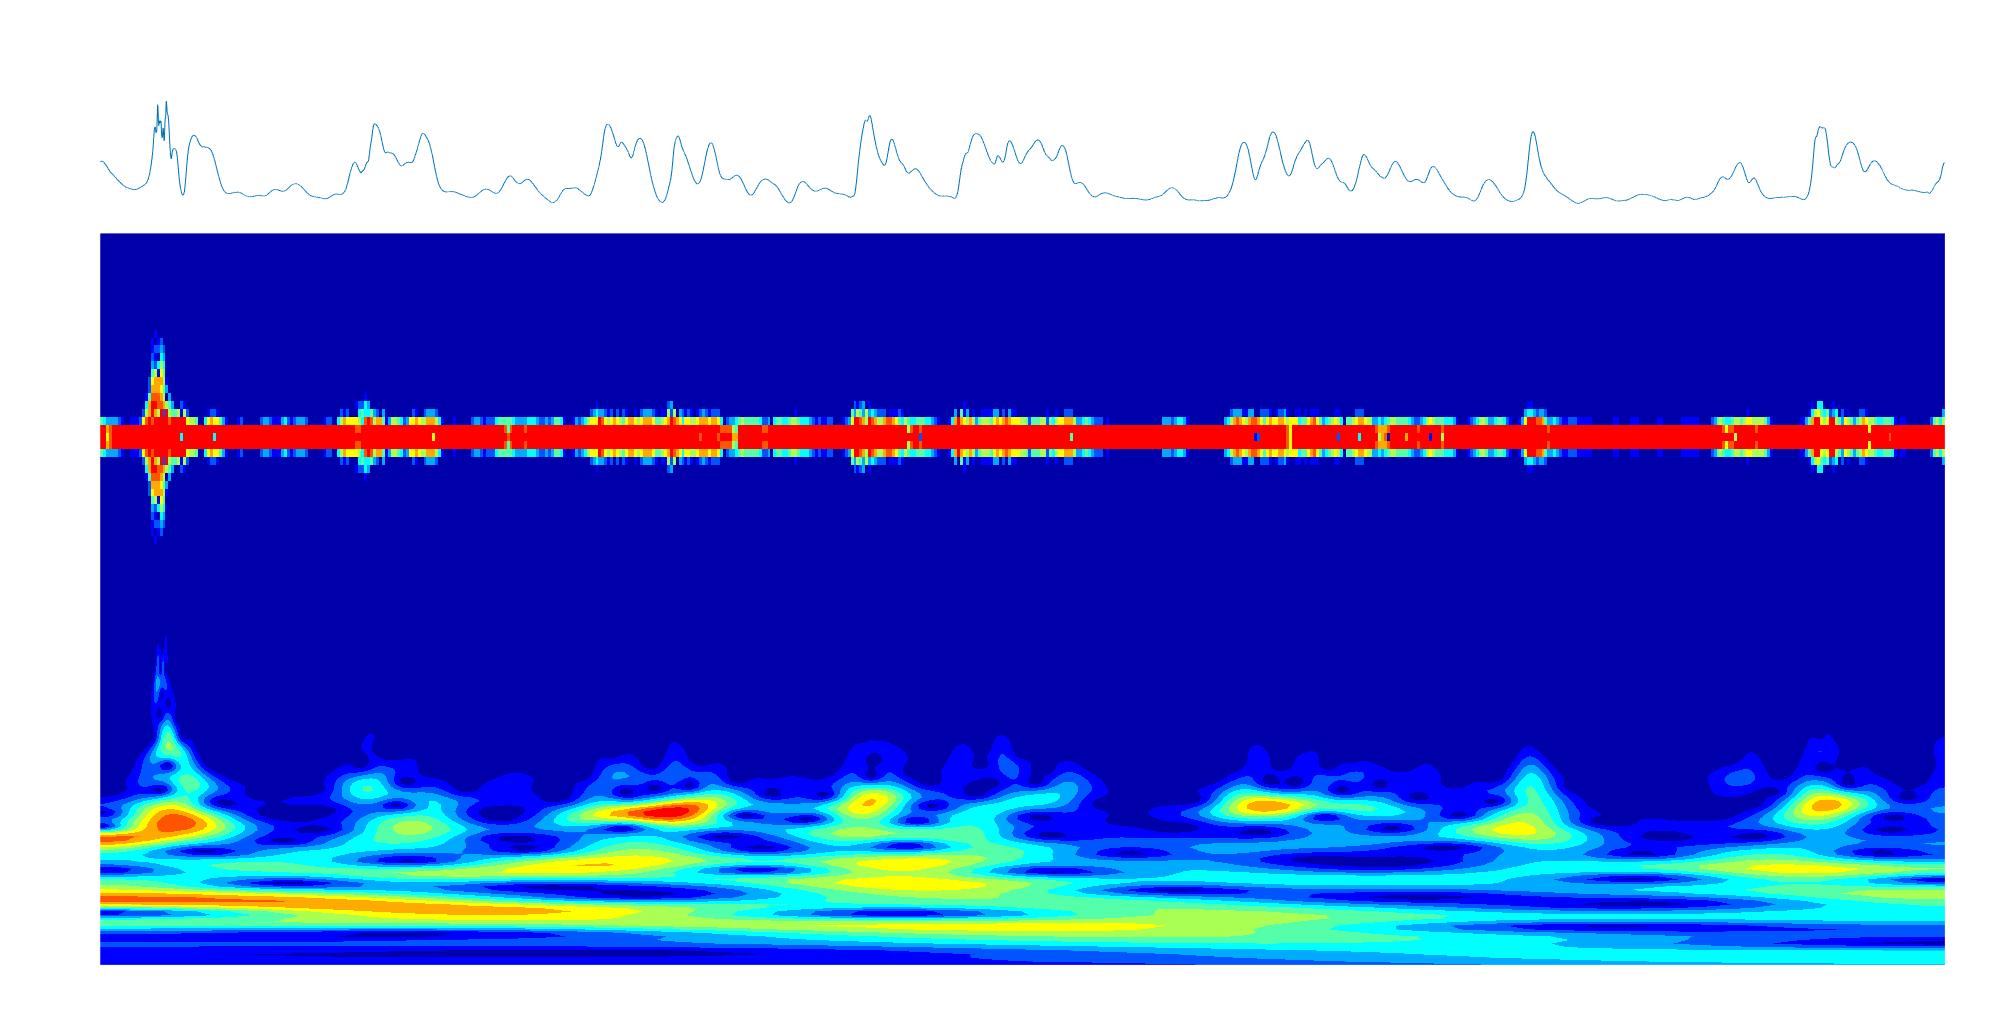TURBULENT: (146, 235, 174, 965)
